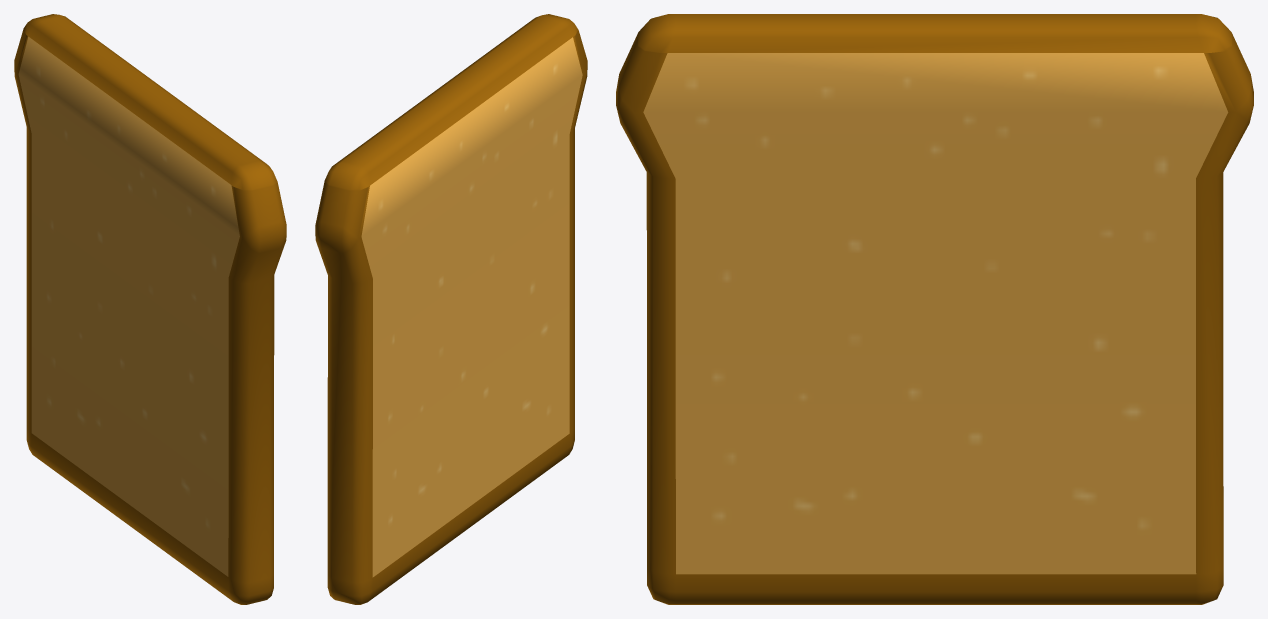
Rendered from Bread-Test-Dimension.fbx.
3 views of the same model, side by side, from view 1: azimuth 30°, elevation 25°; view 2: azimuth 150°, elevation 25°; view 3: azimuth 270°, elevation 25° (orthographic). The views are drawn at different scales.
Visible parts, largest first — view 1: Bread; view 2: Bread; view 3: Bread.
Part boxes in pixels (<box>): Bread: <box>14,14,286,604</box>; Bread: <box>315,14,587,604</box>; Bread: <box>616,14,1253,604</box>.
Bounding box in the file's own units: 10 × 100 × 100.
